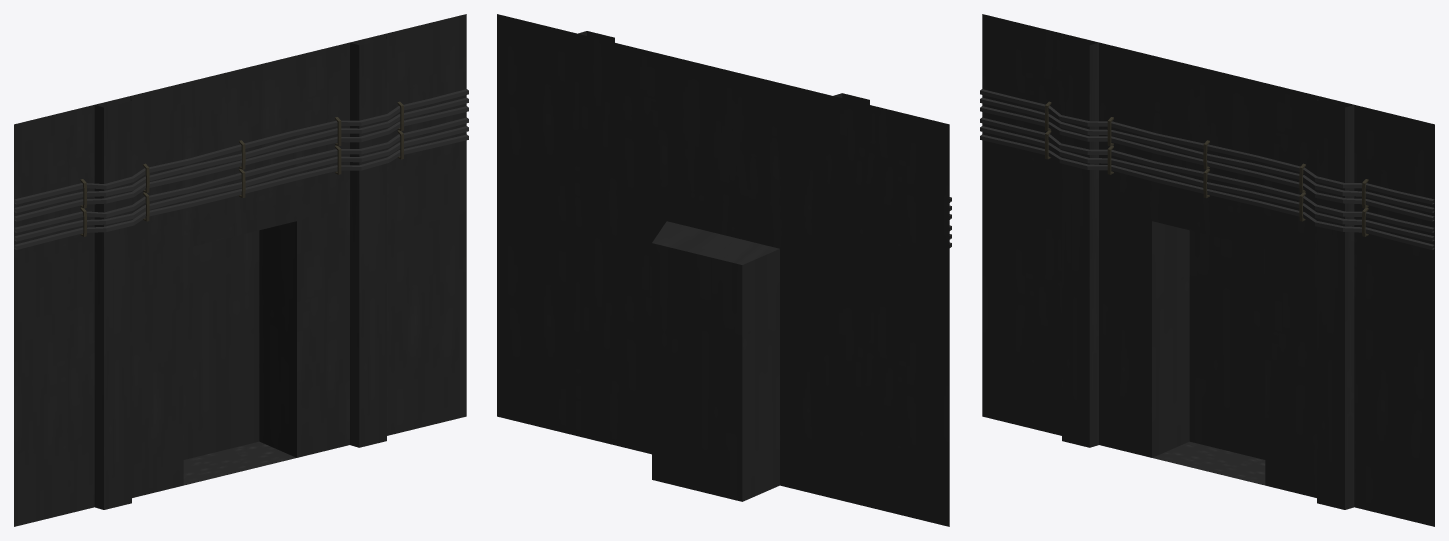
The model's file is SW_ENV_RailTunnelWall_B_02b_05m_FF.fbx.
The picture shows the model from 3 angles, left to right: view 1: azimuth 30°, elevation 25°; view 2: azimuth 150°, elevation 25°; view 3: azimuth 330°, elevation 25°; orthographic projection.
Parts seen in each view (by area): view 1: SW_ENV_RailTunnelWall_B_02b_05m_FF; view 2: SW_ENV_RailTunnelWall_B_02b_05m_FF; view 3: SW_ENV_RailTunnelWall_B_02b_05m_FF.
Part boxes in pixels (x1,y1,x2,y2): SW_ENV_RailTunnelWall_B_02b_05m_FF: (14, 14, 468, 526); SW_ENV_RailTunnelWall_B_02b_05m_FF: (497, 14, 951, 526); SW_ENV_RailTunnelWall_B_02b_05m_FF: (980, 14, 1434, 526).
Bounding box in the file's own units: 500 × 425 × 64.88.
